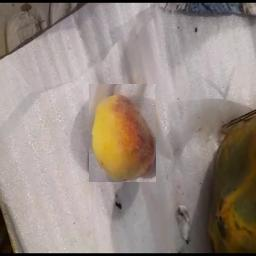Peach Semifresh: (90, 84, 157, 182)
